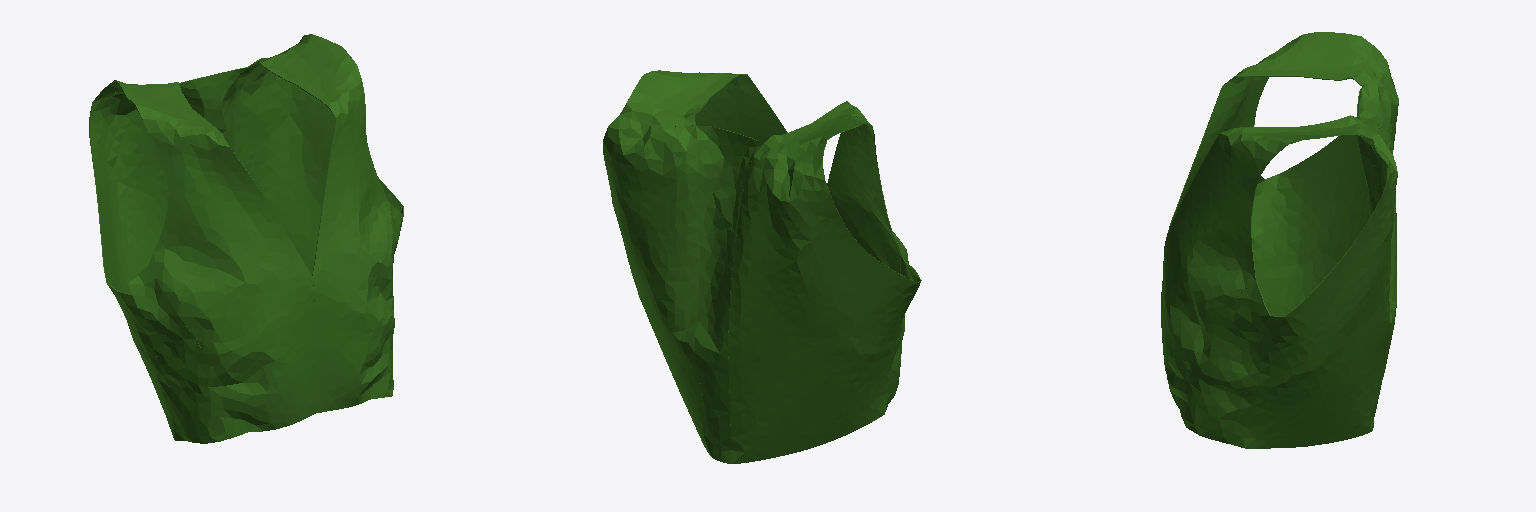
File: ShopKeepingtonVest.obj
The picture shows the model from 3 angles: view 1: azimuth 30°, elevation 25°; view 2: azimuth 150°, elevation 25°; view 3: azimuth 270°, elevation 25°; orthographic projection.
Visible parts, largest first — view 1: polySurface14; view 2: polySurface14; view 3: polySurface14.
Boxes of the visible parts, x1,y1,x2,y2 form: polySurface14: [89, 34, 403, 443]; polySurface14: [603, 70, 921, 463]; polySurface14: [1161, 32, 1398, 448].
Size of the model in its own units: 42.85 by 47.14 by 29.53.